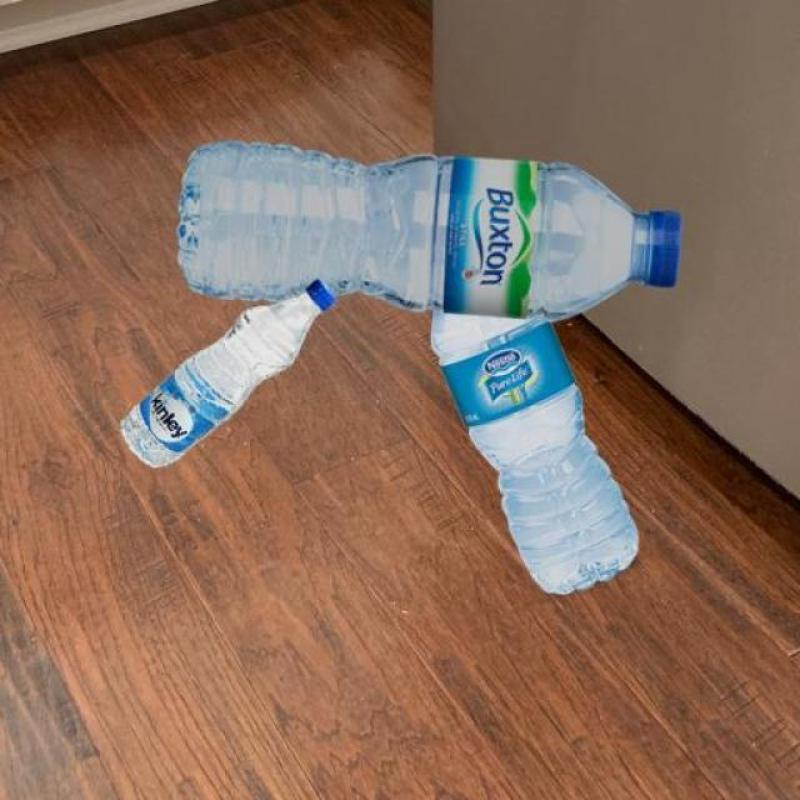botella: (175, 140, 683, 322), (431, 298, 644, 597), (118, 279, 332, 470)
